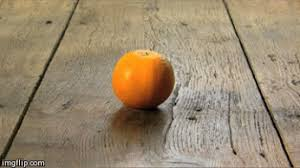orange: (106, 47, 180, 113)
